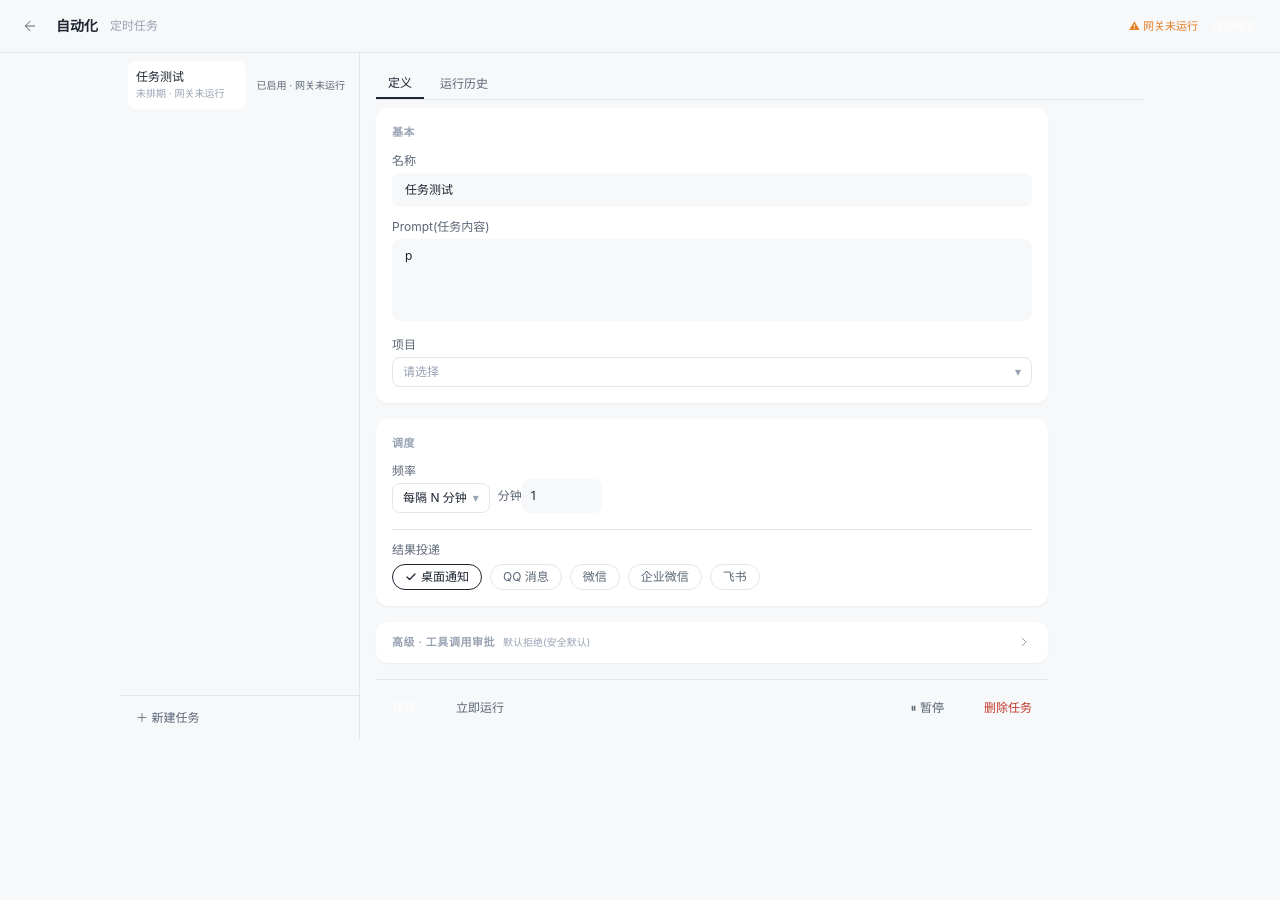
it: 立即运行:守护进程未运行时的反馈 › 其它失败原因仍是「稍后重试」,两种情形不可混为一谈
This screenshot has width=1280, height=900.
Click the button with test id "automation-run-now": (480, 708) [440,692,520,724]
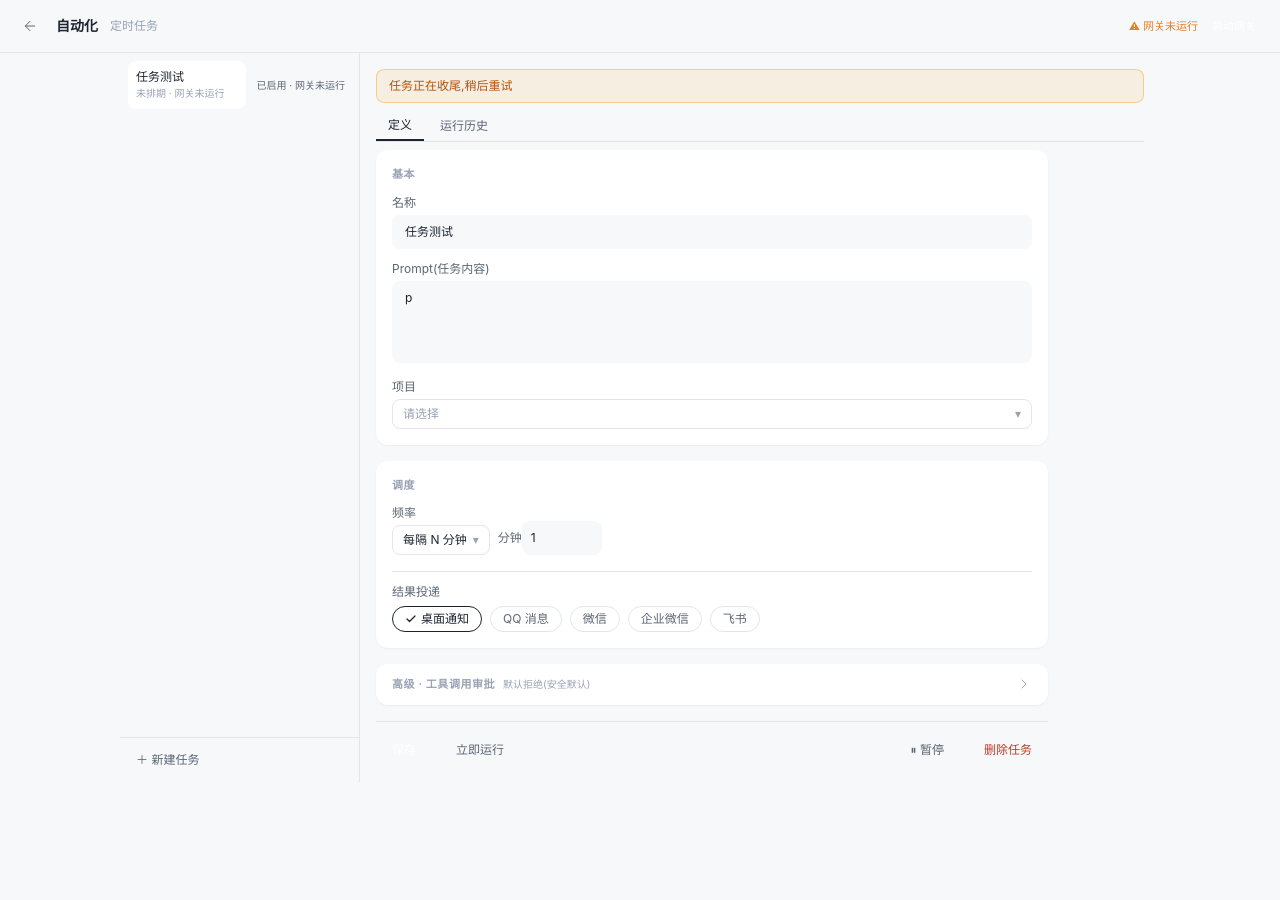
Result: the text with test id "runnow-busy-hint" shows "稍后重试" at [389,78,512,93]
